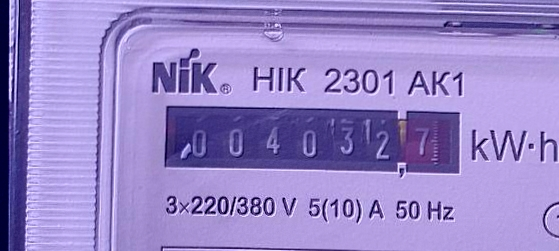0: (225, 126, 245, 159), (189, 126, 208, 159), (299, 127, 318, 160)
2: (373, 128, 391, 162)
3: (337, 125, 355, 157)
4: (262, 123, 282, 159)
7: (414, 125, 431, 158)
screen: (154, 98, 468, 186)
